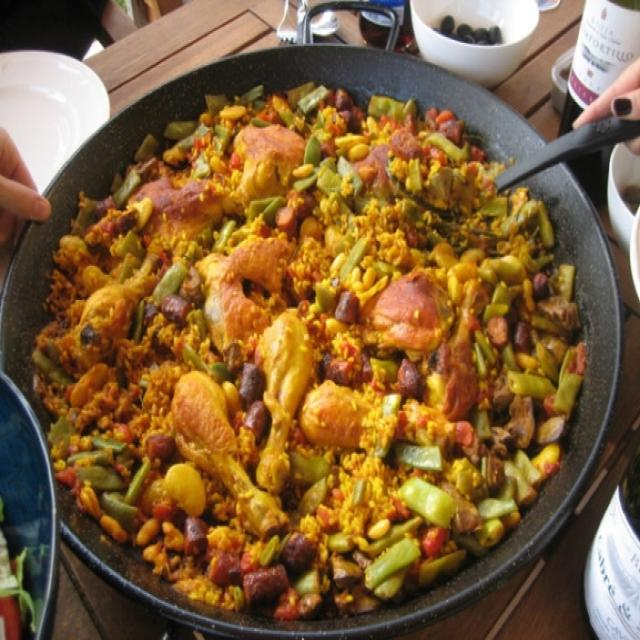汤锅炖物: (60, 80, 625, 640)
